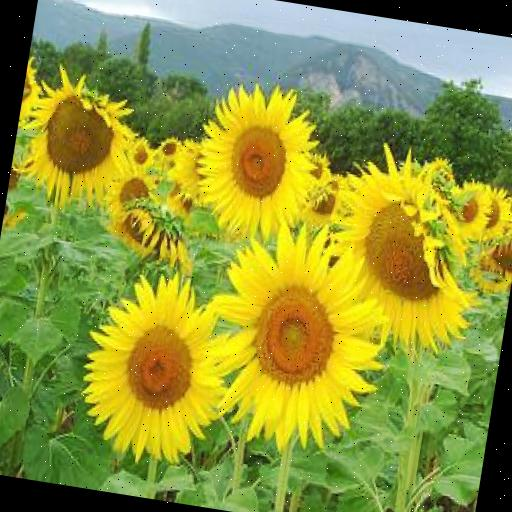sunflower: (200, 216, 400, 459), (322, 144, 496, 356), (72, 266, 246, 466), (185, 74, 332, 253), (14, 62, 146, 214), (124, 198, 196, 264)
